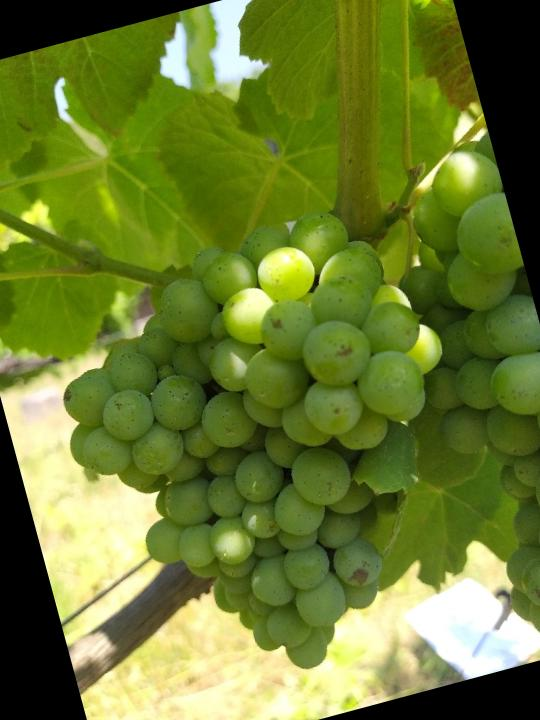grape: (25, 186, 519, 717)
